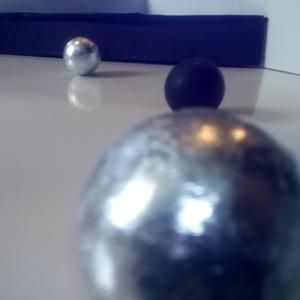zone: (1, 12, 266, 67)
